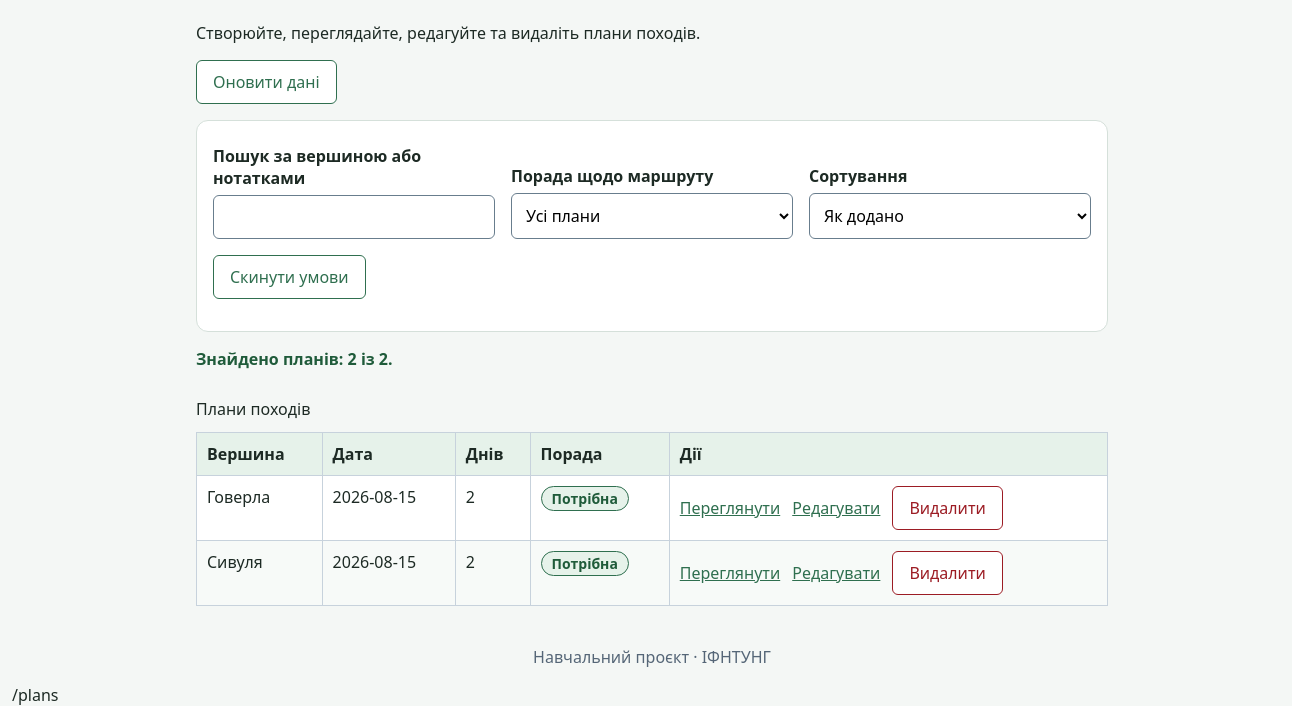
Scenario: підтверджене видалення вилучає саме вибраний план зі списку
(page scrolled)
Expected: the cell "Сивуля" is shown, left=196, top=540, right=322, bottom=605
Click the button "Видалити" in the row of "Сивуля" at coordinates (948, 573), box left=892, top=551, right=1003, bottom=595
(page scrolled)
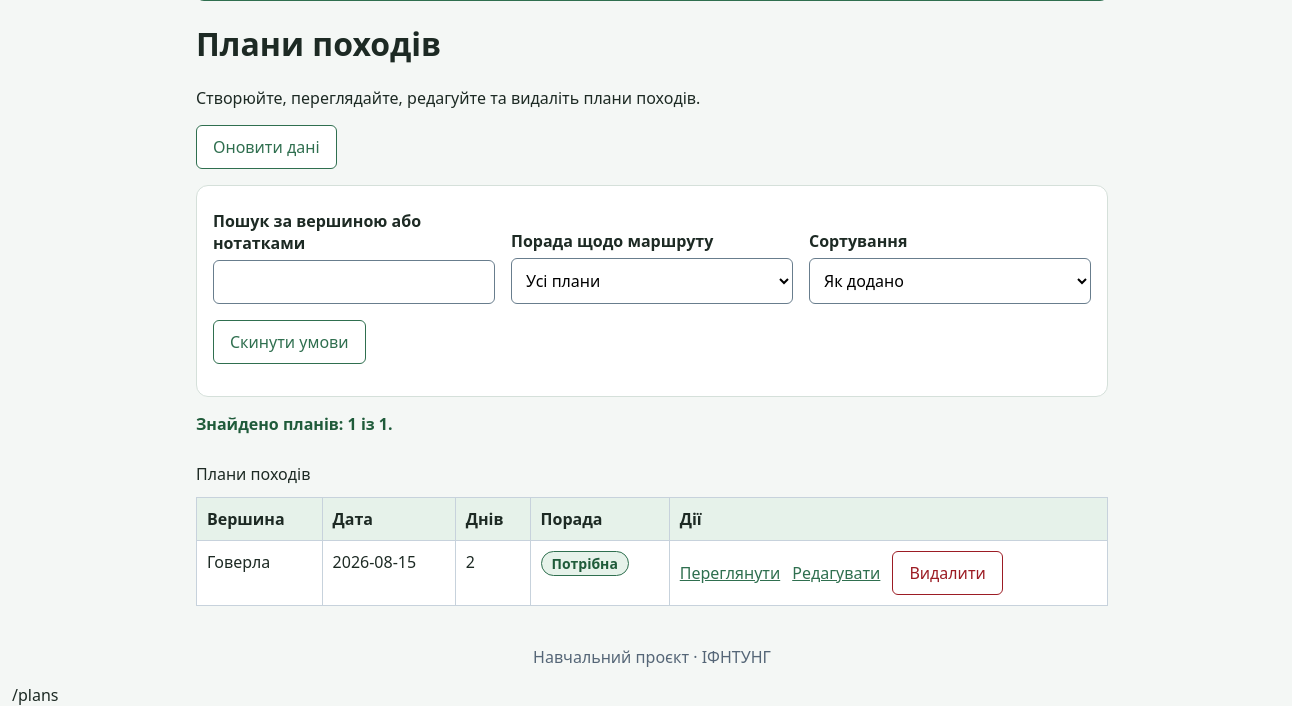
Expected: the cell "Говерла" is shown, left=196, top=540, right=322, bottom=605
Now the cell "Сивуля" is gone
